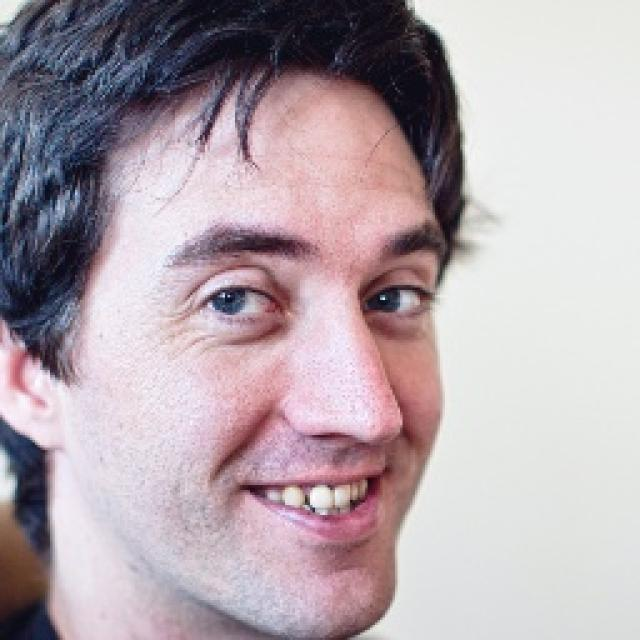earlobe: (0, 316, 67, 452)
